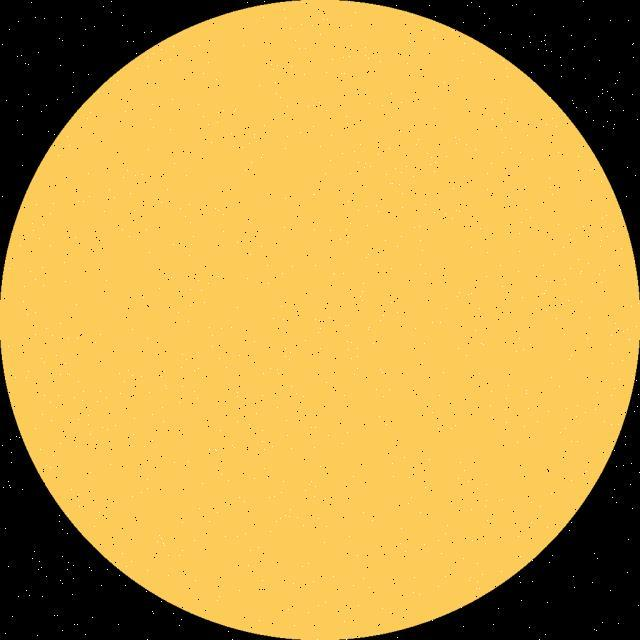Circle: (1, 0, 640, 640)
